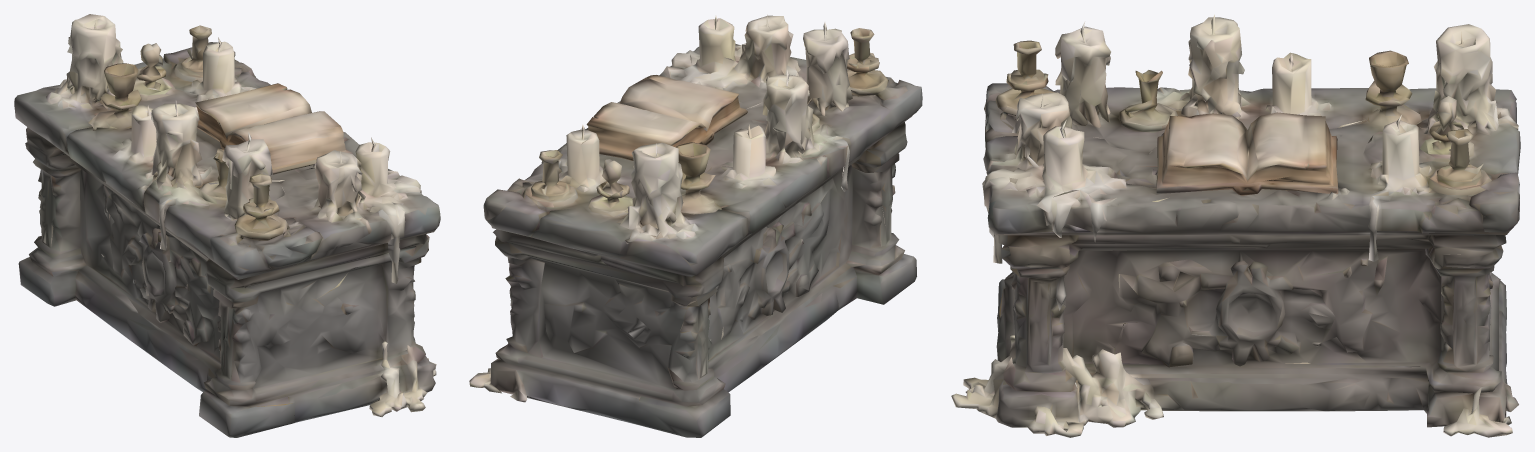
File: candle-altar.glb
The picture shows the model from 3 angles, left to right: view 1: azimuth 30°, elevation 25°; view 2: azimuth 150°, elevation 25°; view 3: azimuth 270°, elevation 25°; orthographic projection. The views are drawn at different scales.
Parts seen in each view (by area): view 1: low; view 2: low; view 3: low.
Boxes of the visible parts, x1=… form: low: x1=14, y1=14, x2=440, y2=437; low: x1=469, y1=14, x2=922, y2=437; low: x1=951, y1=14, x2=1520, y2=437.
Bounding box in the file's own units: 0.9869 × 1.1 × 1.79.
Materials: 1 (1 with a texture image).
